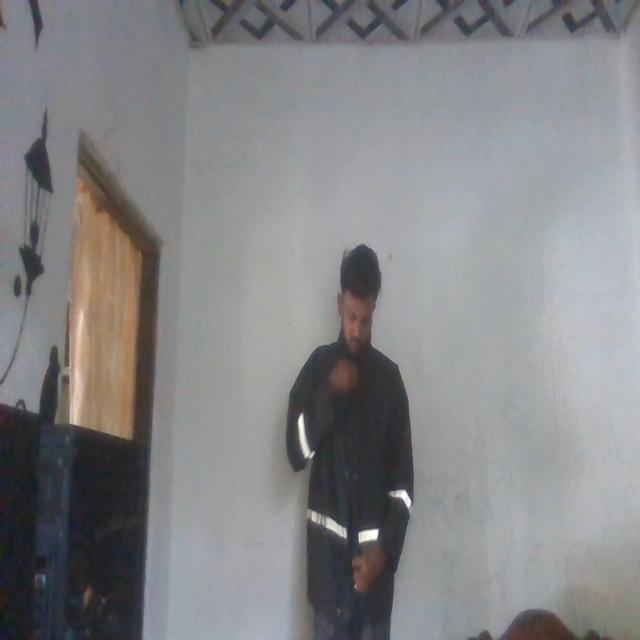Jacket_Wearer: (288, 332, 416, 596)
Person: (288, 239, 414, 640)
